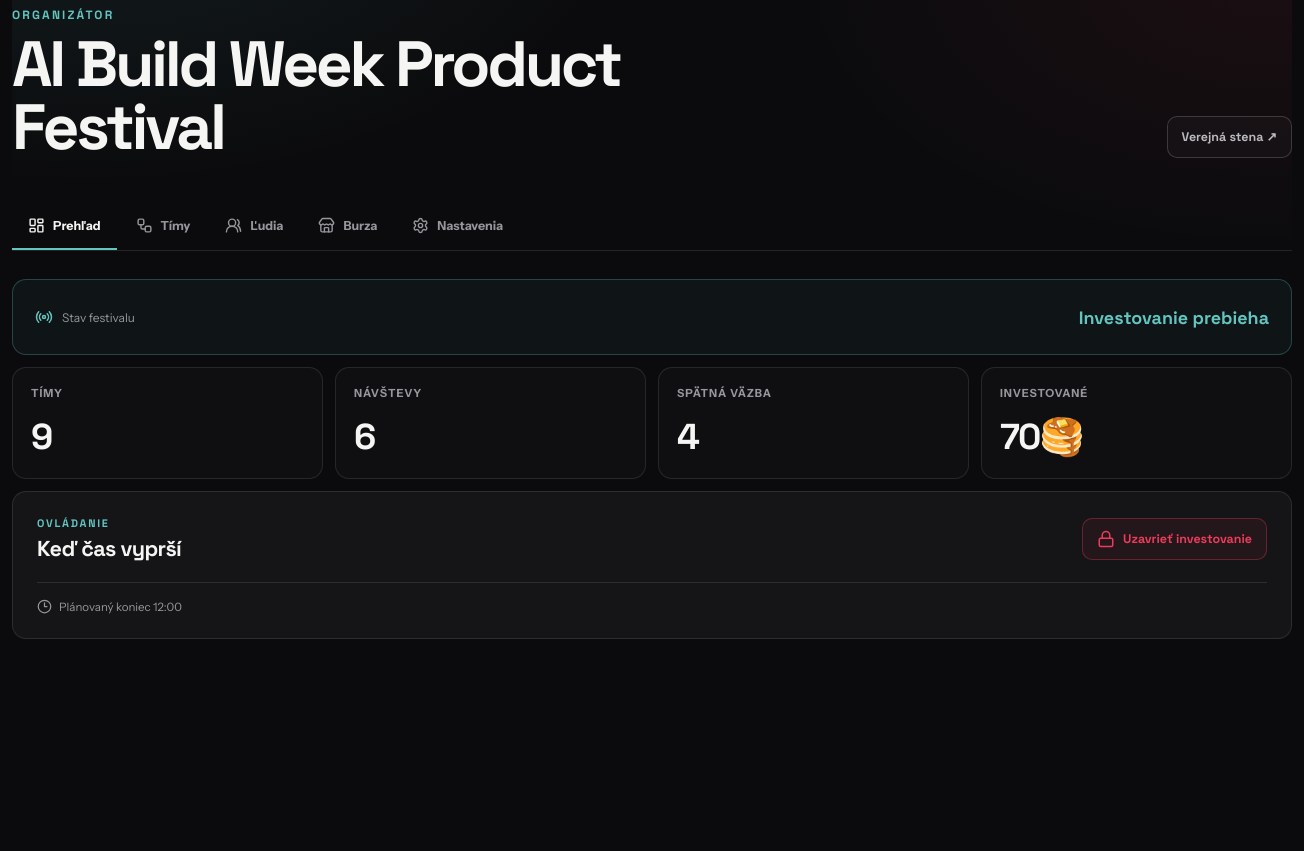
Scenario: AdminDashboard › does not offer to delete the current organizer
Click the tab "Ľudia" at (254, 226), box [209,202,299,250]
(page scrolled)
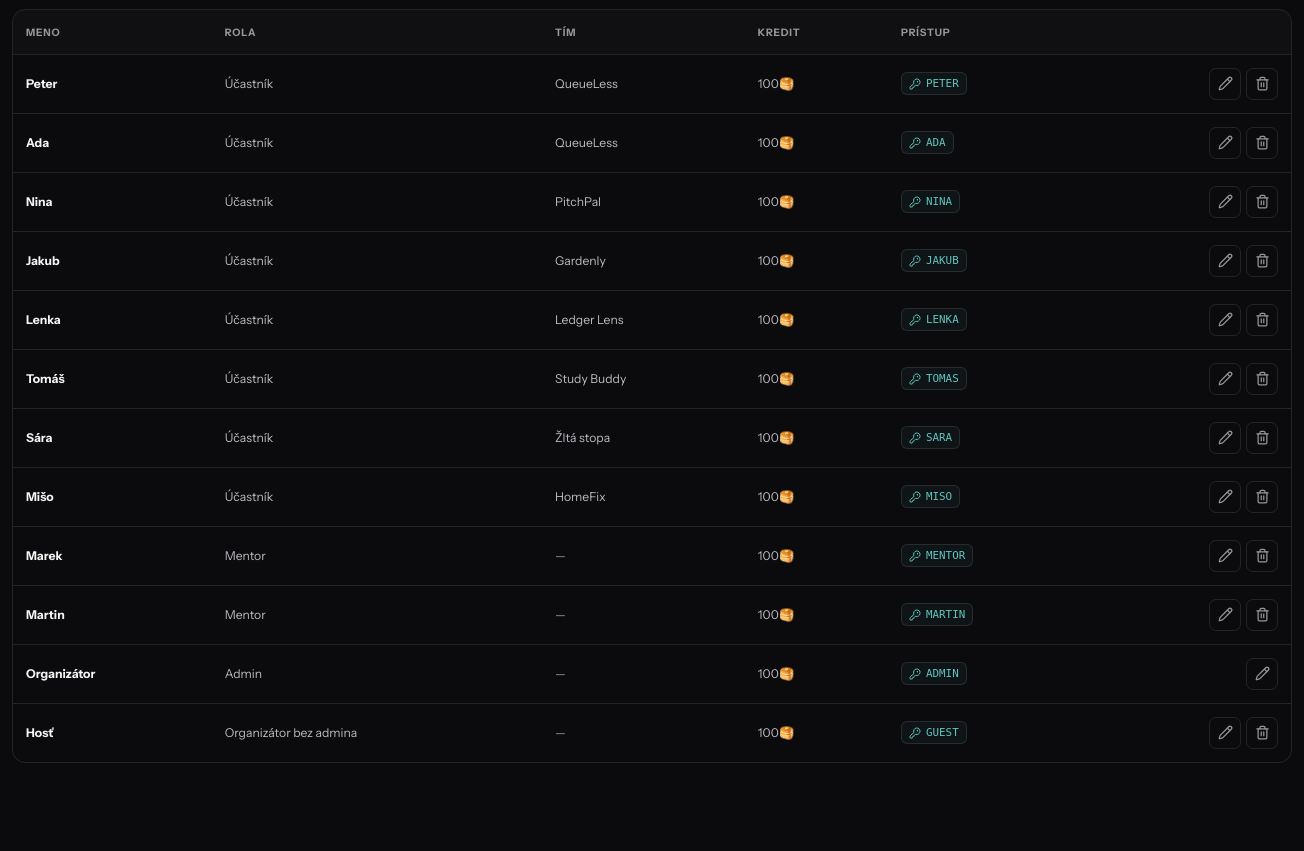
expect the 1st text "100🥞" is shown: met, box [745,54,888,113]
expect the button named "Odstrániť Peter" is shown: met, box [1246,68,1278,100]
Click the button named "Upraviť Organizátor" at (1262, 674), box [1246,658,1278,690]
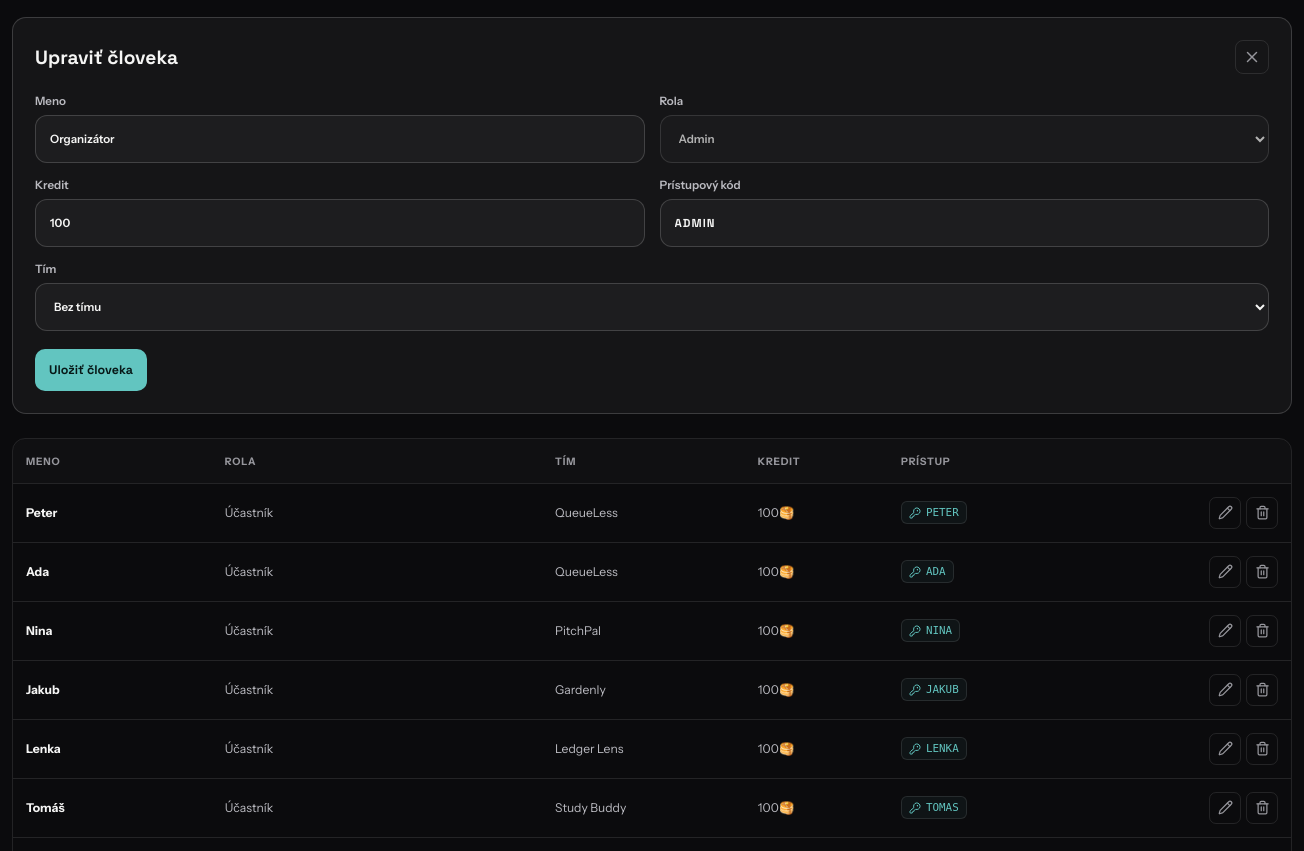
expect the dropdown labelled "Rola" is disabled: met, box [660,115,1269,163]
